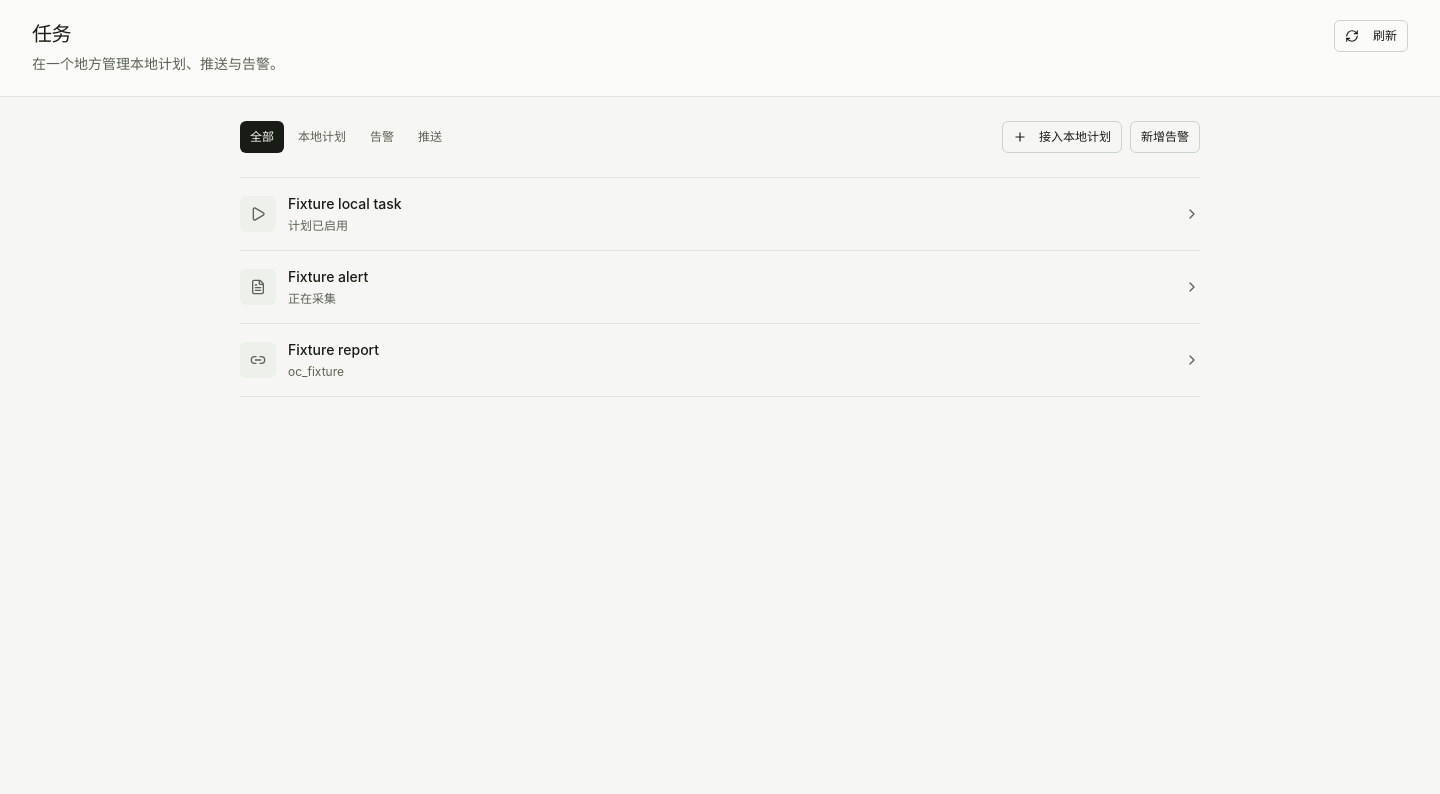
Test: Channels and Tasks active surface › keeps alert approval and delivery policy in the selected task
The image size is (1440, 794).
Click the button "Fixture alert 正在采集".
click(258, 287)  # box [240,251,1200,324]
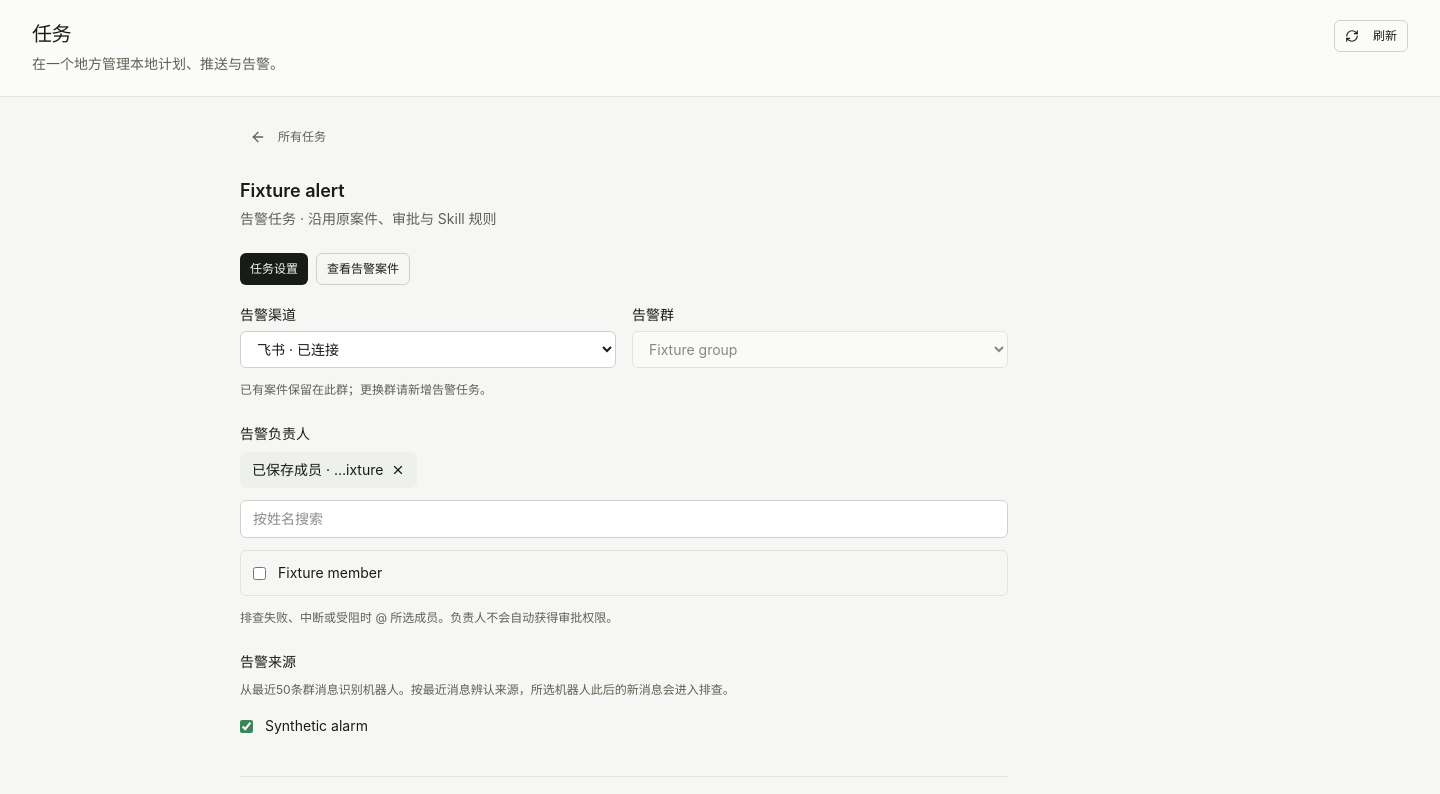
Click the button "所有任务".
click(288, 137)  # box [240,121,336,153]
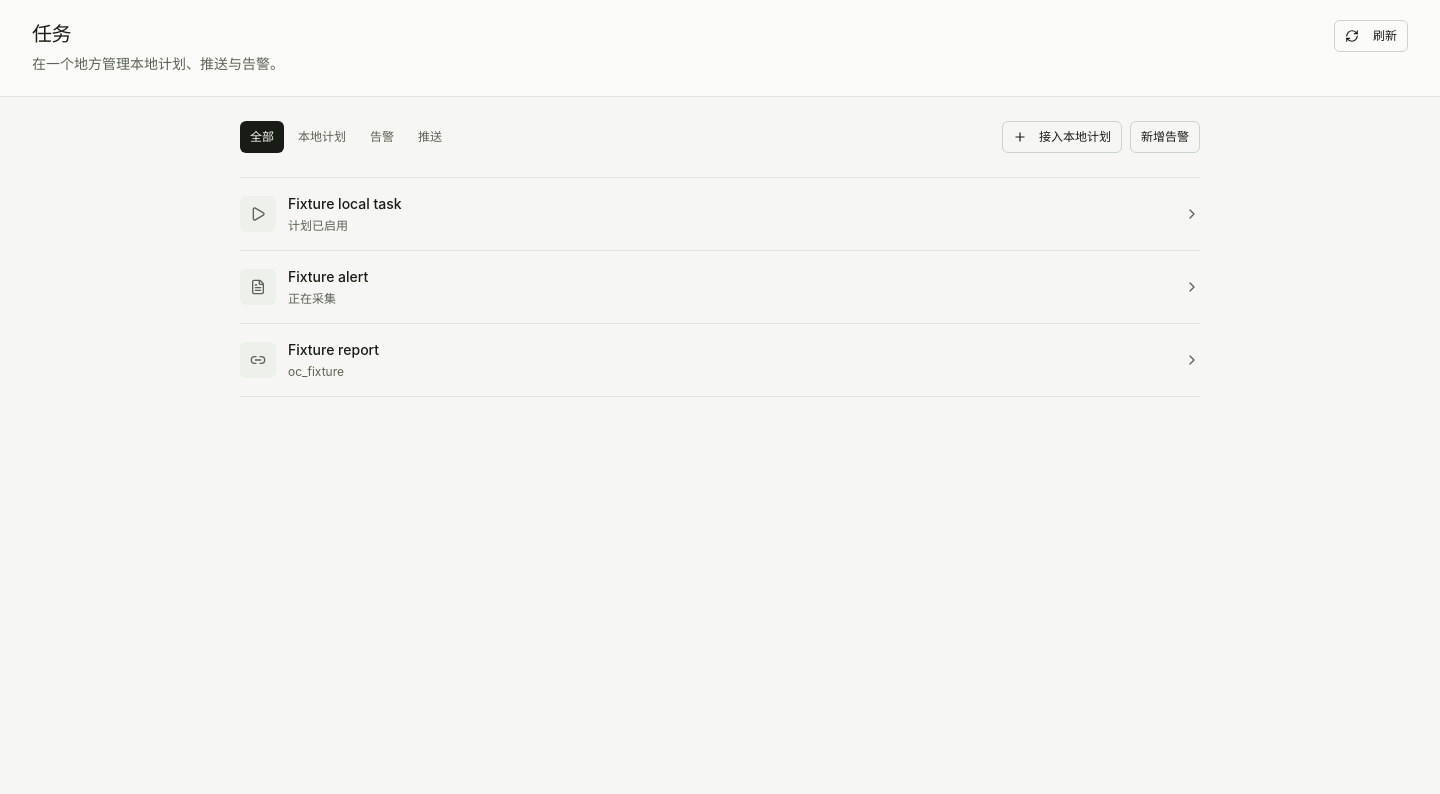
Click the button "Fixture report oc_fixture".
click(258, 360)  # box [240,324,1200,396]
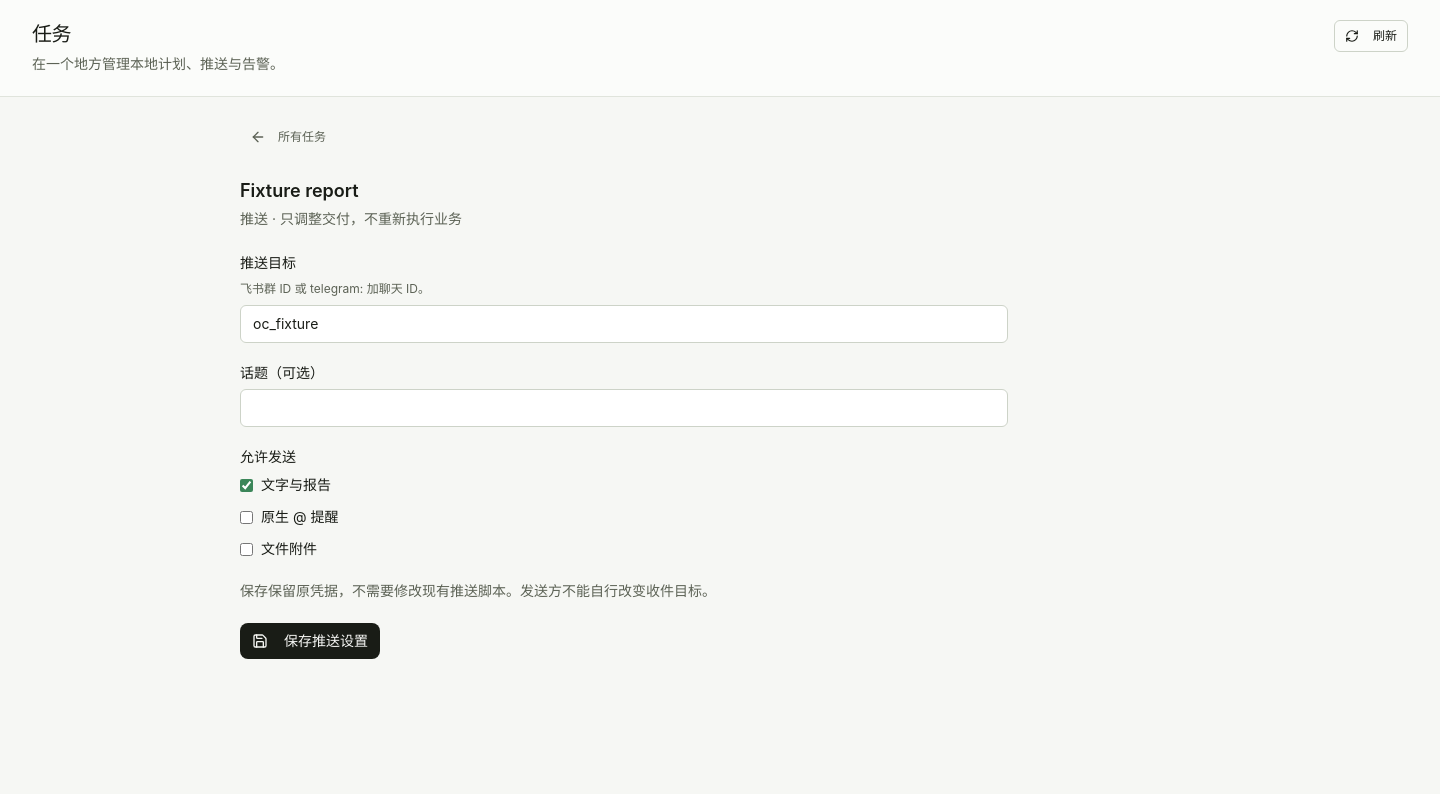
Check: the text "不需要修改现有推送脚本" is shown, box [240,582,716,599]
